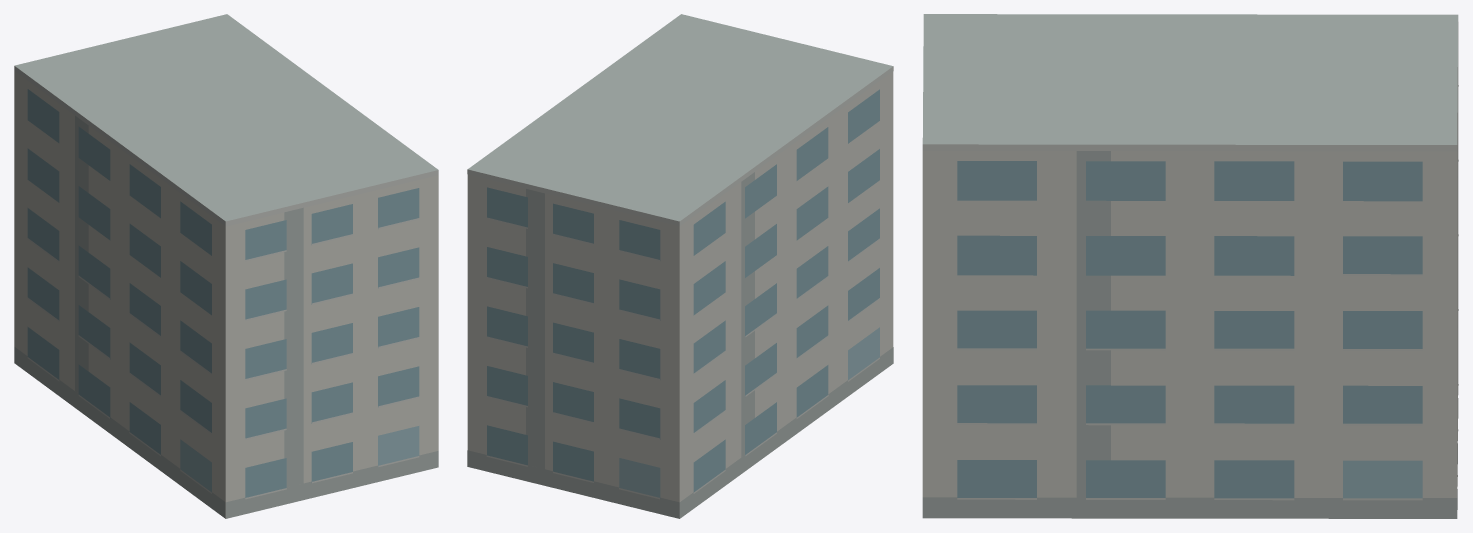
The model's file is survey-upis-32936694.glb.
3 views of the same model, side by side, from view 1: azimuth 30°, elevation 25°; view 2: azimuth 150°, elevation 25°; view 3: azimuth 270°, elevation 25° (orthographic). The views are drawn at different scales.
Parts seen in each view (by area): view 1: survey-upis-32936694.tmp; view 2: survey-upis-32936694.tmp; view 3: survey-upis-32936694.tmp.
Part boxes in pixels (bbox=[...]): survey-upis-32936694.tmp: bbox=[14, 14, 438, 518]; survey-upis-32936694.tmp: bbox=[467, 14, 893, 518]; survey-upis-32936694.tmp: bbox=[922, 14, 1458, 518].
Size of the model in its own units: 10.88 by 14.45 by 18.78.
